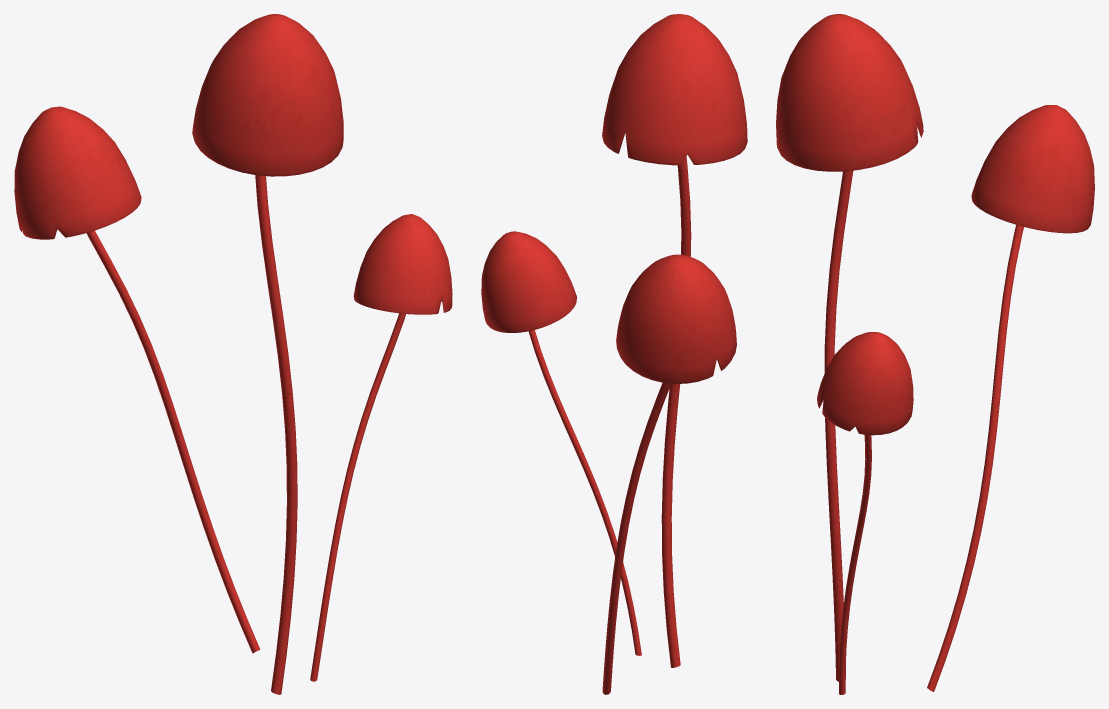
File: Shrooms_04.fbx
The picture shows the model from 3 angles, left to right: view 1: azimuth 30°, elevation 25°; view 2: azimuth 150°, elevation 25°; view 3: azimuth 270°, elevation 25°; orthographic projection. The views are drawn at different scales.
Visible parts, largest first — view 1: Shrooms.004; view 2: Shrooms.004; view 3: Shrooms.004.
Part boxes in pixels (x1,y1,x2,y2): Shrooms.004: [14, 14, 452, 694]; Shrooms.004: [481, 14, 747, 694]; Shrooms.004: [776, 14, 1094, 694].
Bounding box in the file's own units: 5.11 × 4.3 × 9.88.
